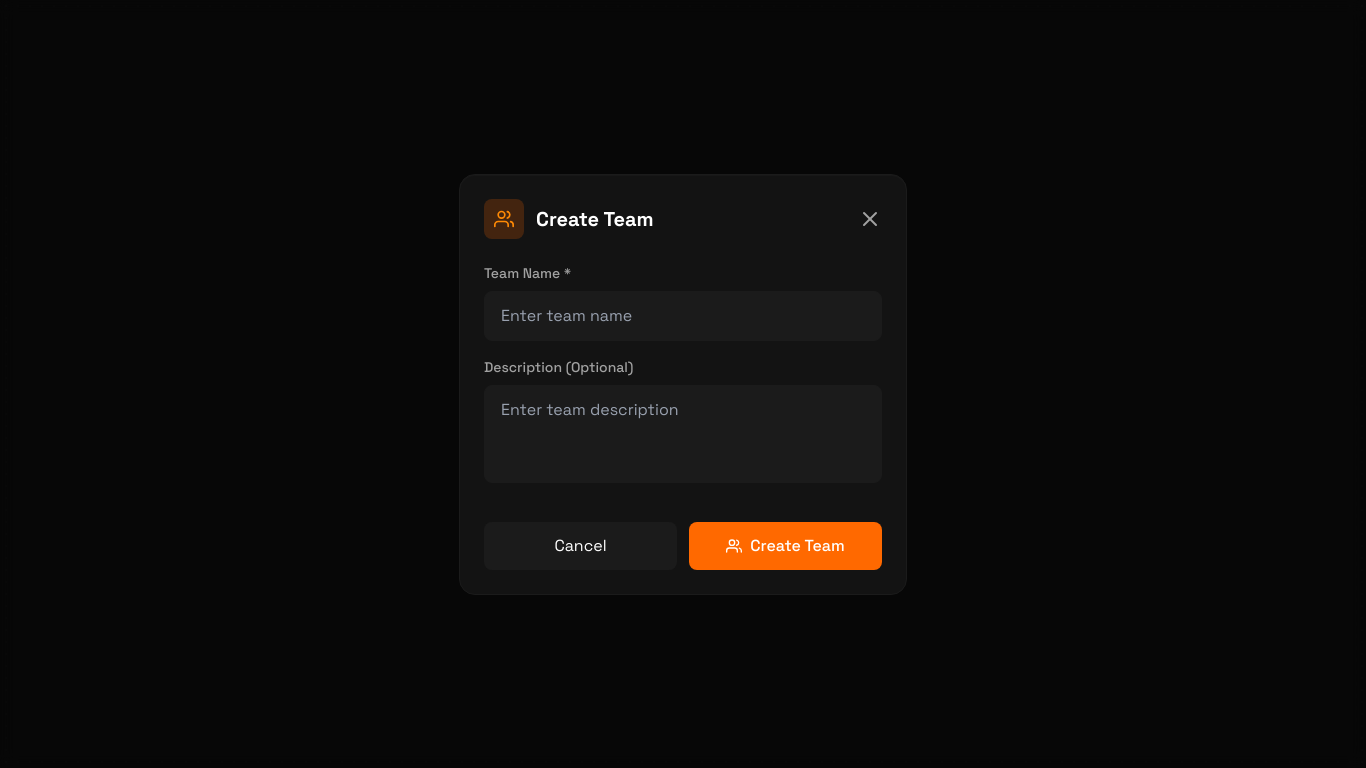
Test: CreateTeamModal › shows error on API failure
Type "Duplicate" into the field with placeholder "Enter team name" at (683, 316), box [484, 290, 882, 340]
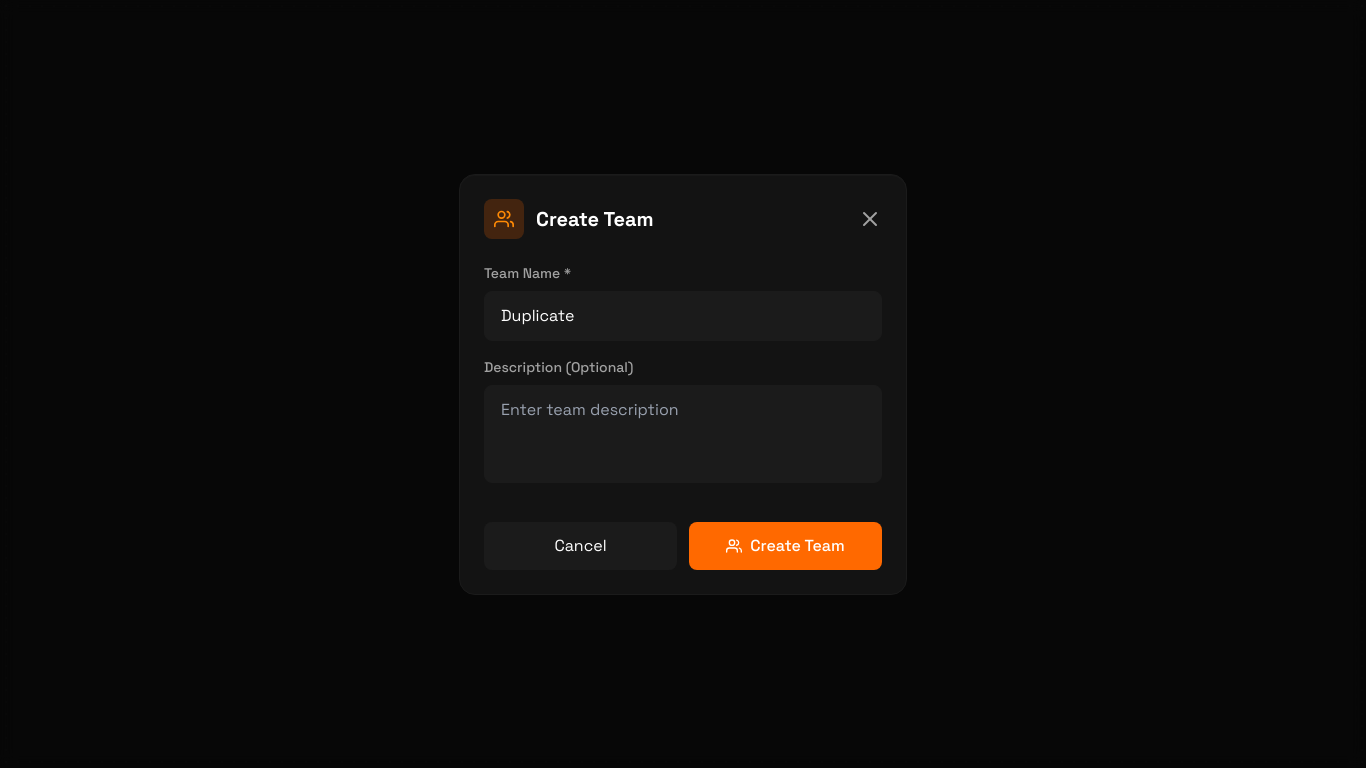
Submit the form with placeholder "Enter team name", box [484, 262, 882, 570]
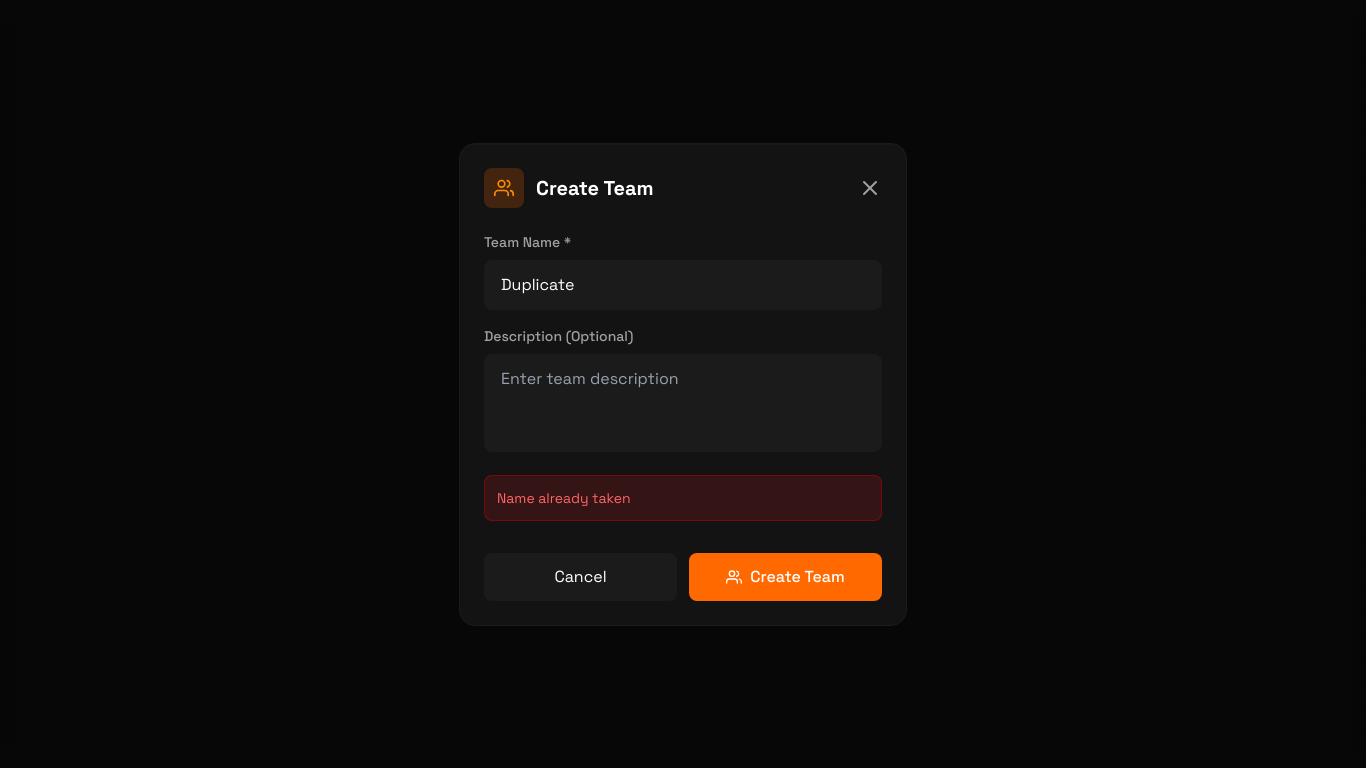
Now the text "Name already taken" is shown, box [497, 488, 631, 506]
